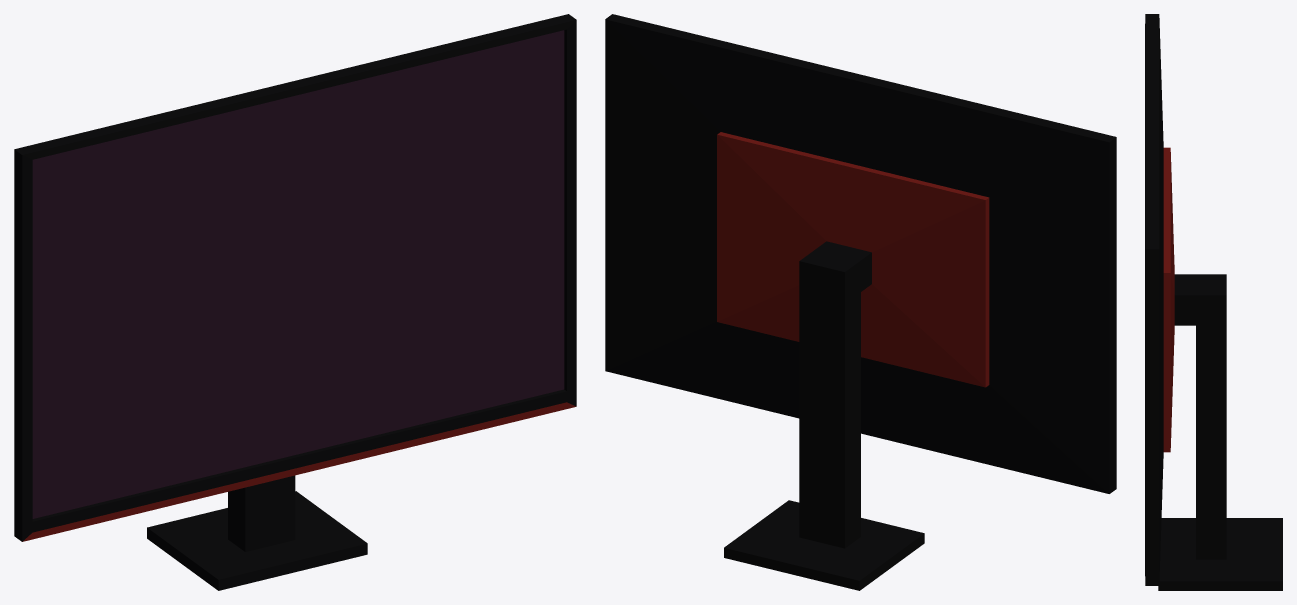
The model's file is monitor.fbx.
The picture shows the model from 3 angles, left to right: view 1: azimuth 30°, elevation 25°; view 2: azimuth 150°, elevation 25°; view 3: azimuth 270°, elevation 25°; orthographic projection. The views are drawn at different scales.
Parts seen in each view (by area): view 1: Monitor; view 2: Monitor; view 3: Monitor.
Part boxes in pixels (left/top/right/bottom): Monitor: left=14, top=14, right=576, bottom=590; Monitor: left=605, top=14, right=1116, bottom=590; Monitor: left=1145, top=14, right=1282, bottom=590.
Bounding box in the file's own units: 300 × 254 × 74.17.
